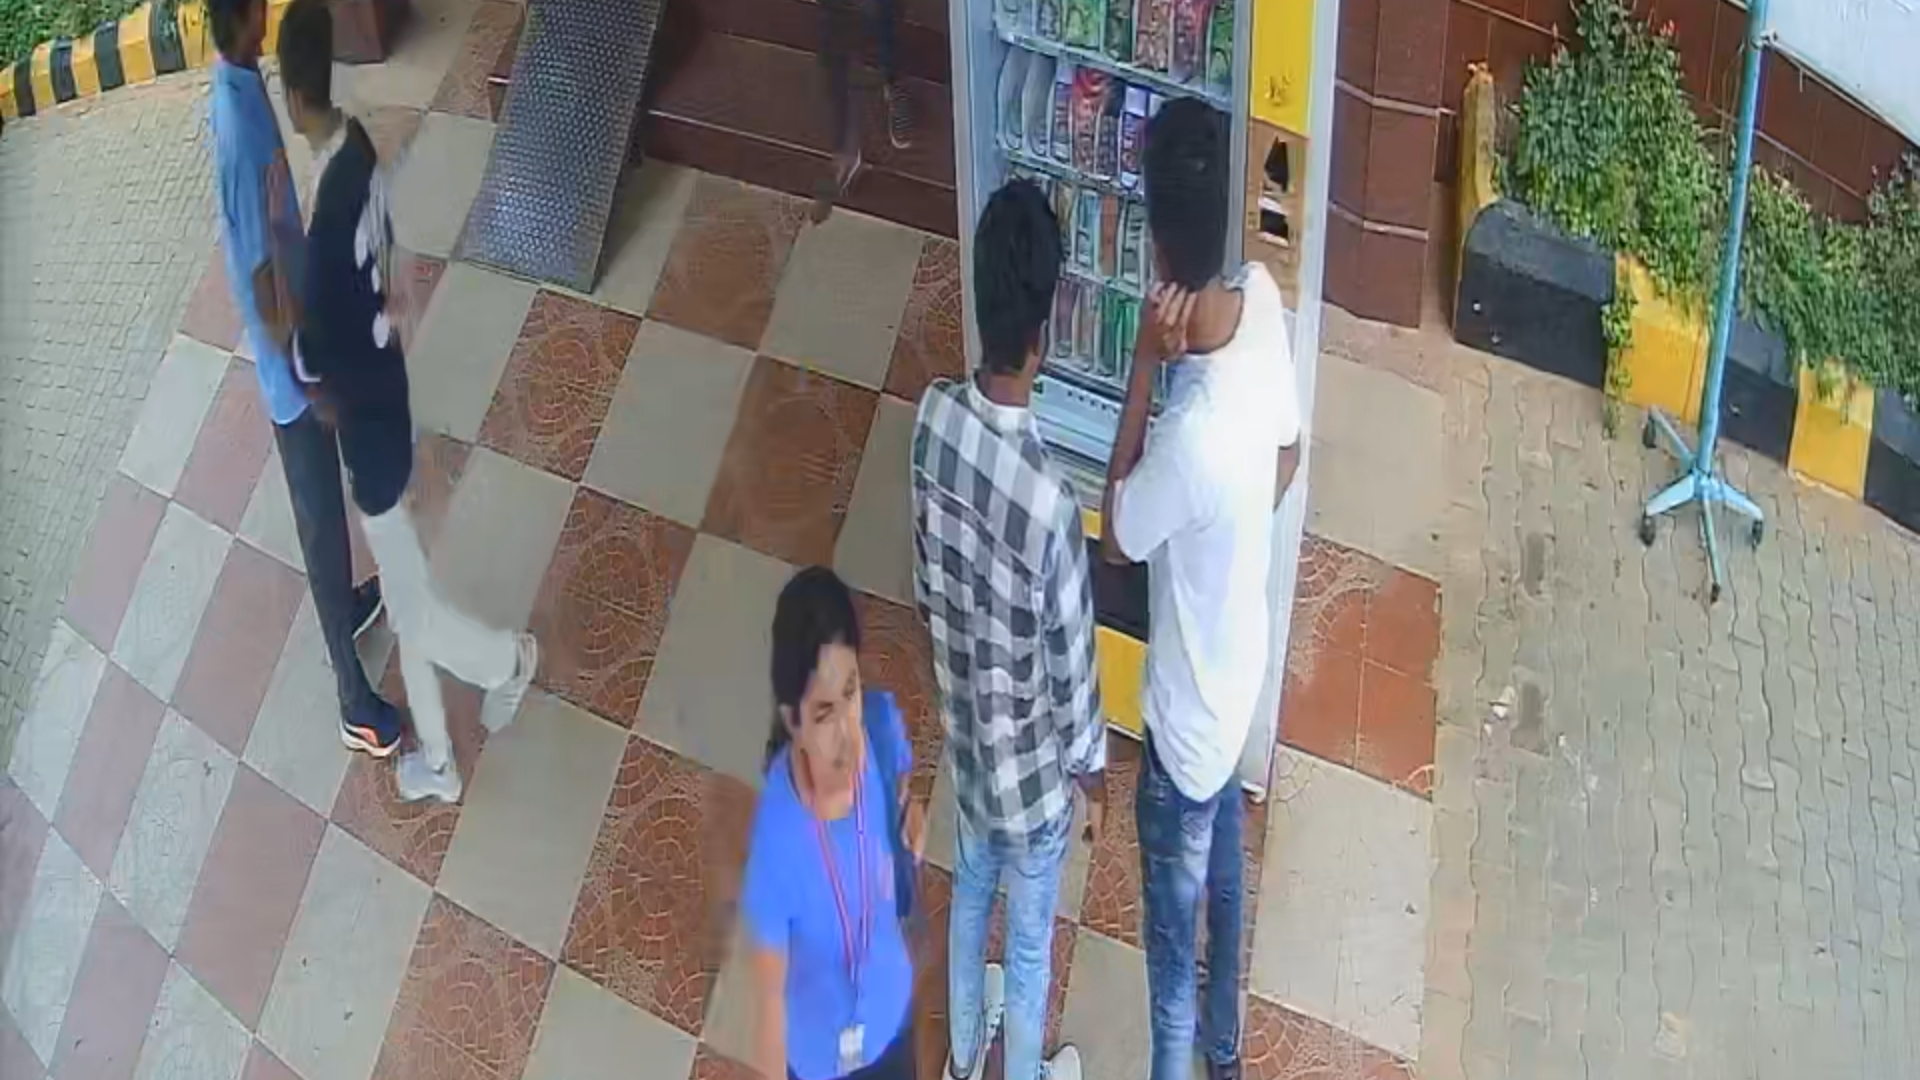not intruder: (702, 570, 945, 1080)
